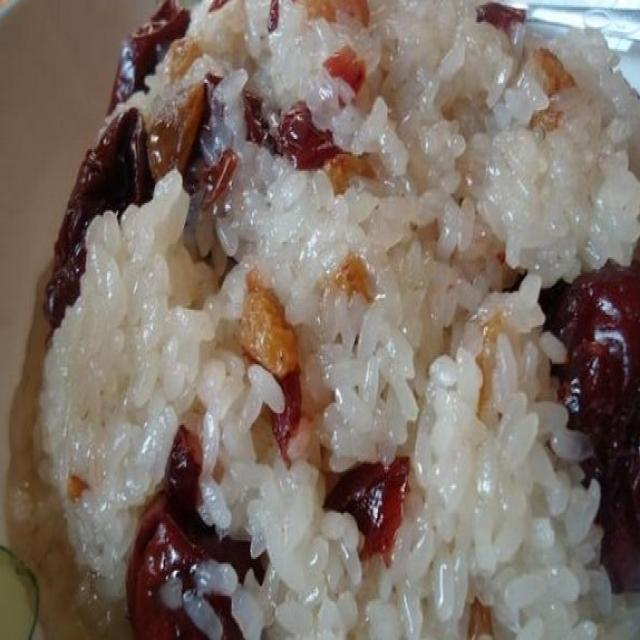米饭主食: (34, 29, 624, 632)
